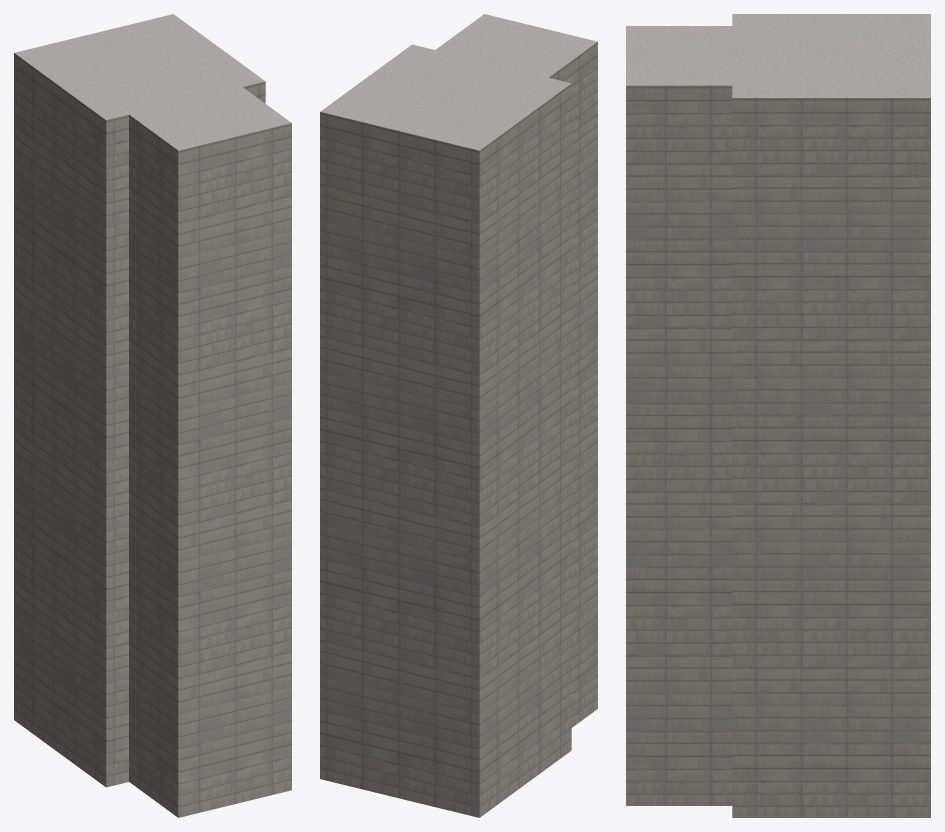
Rendered from building_007_001.glb.
3 renders of one model, left to right at view 1: azimuth 30°, elevation 25°; view 2: azimuth 150°, elevation 25°; view 3: azimuth 270°, elevation 25°, orthographic. The views are drawn at different scales.
Parts seen in each view (by area): view 1: building_007.001; view 2: building_007.001; view 3: building_007.001.
Part boxes in pixels (left/top/right/bottom): building_007.001: left=14, top=14, right=291, bottom=817; building_007.001: left=320, top=14, right=597, bottom=817; building_007.001: left=626, top=14, right=930, bottom=817.
Size of the model in its own units: 1000 by 4000 by 1535.
Materials: 2 (2 with a texture image).
